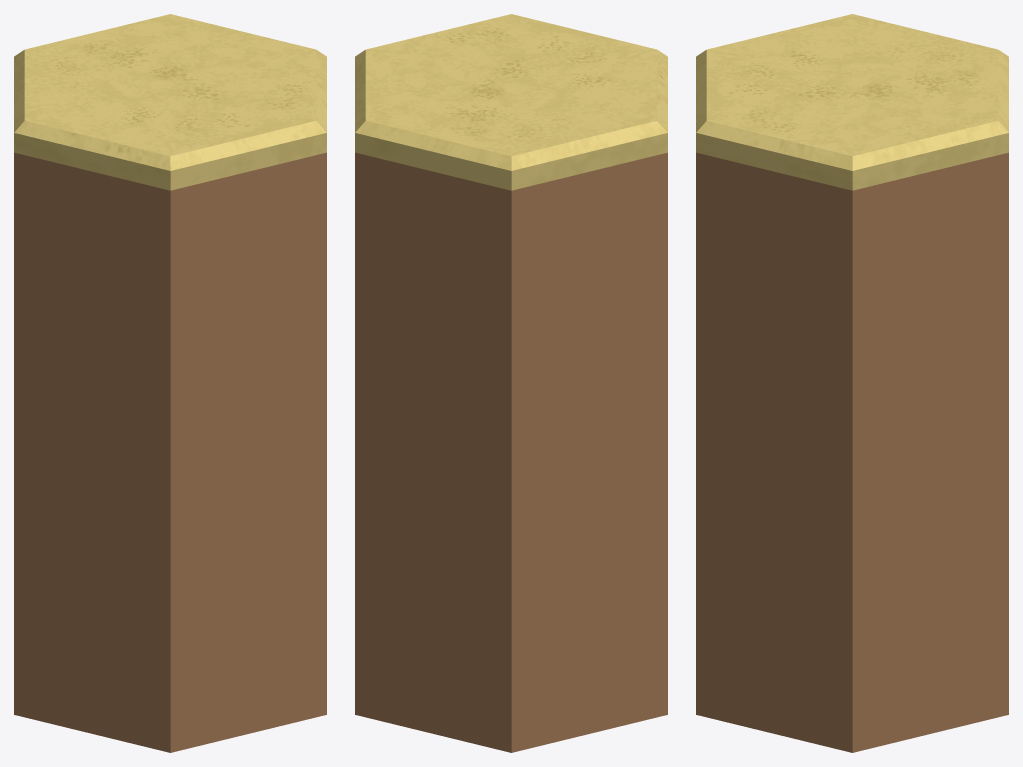
Rendered from TerrainSand.fbx.
3 renders of one model, left to right at view 1: azimuth 30°, elevation 25°; view 2: azimuth 150°, elevation 25°; view 3: azimuth 270°, elevation 25°, orthographic.
Visible parts, largest first — view 1: TerrainSand_LOD0; view 2: TerrainSand_LOD0; view 3: TerrainSand_LOD0.
Part boxes in pixels (box(x1,y1,x2,y2)): TerrainSand_LOD0: box(14, 14, 326, 752); TerrainSand_LOD0: box(355, 14, 667, 752); TerrainSand_LOD0: box(696, 14, 1008, 752).
Size of what is drawn, in the model's own units: 500 by 904 by 433.
